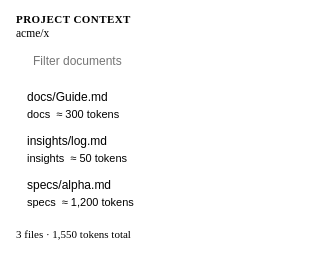
Test: ProjectContextView › the footer counts every document and the total tokens while a filter narrows the list
Expected: the text "3 files · 1,550 tokens total" is shown, [16, 228, 131, 240]
case-insensitive path substring
In the search field labelled "Filter documents": (156, 61) [33, 54, 278, 68], type "GUIDE"
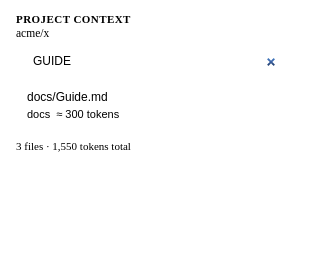
Expected: the text "3 files · 1,550 tokens total" is shown, [16, 140, 131, 152]
Result: the button "specs/alpha.md" is gone
Result: the button "insights/log.md" is gone
